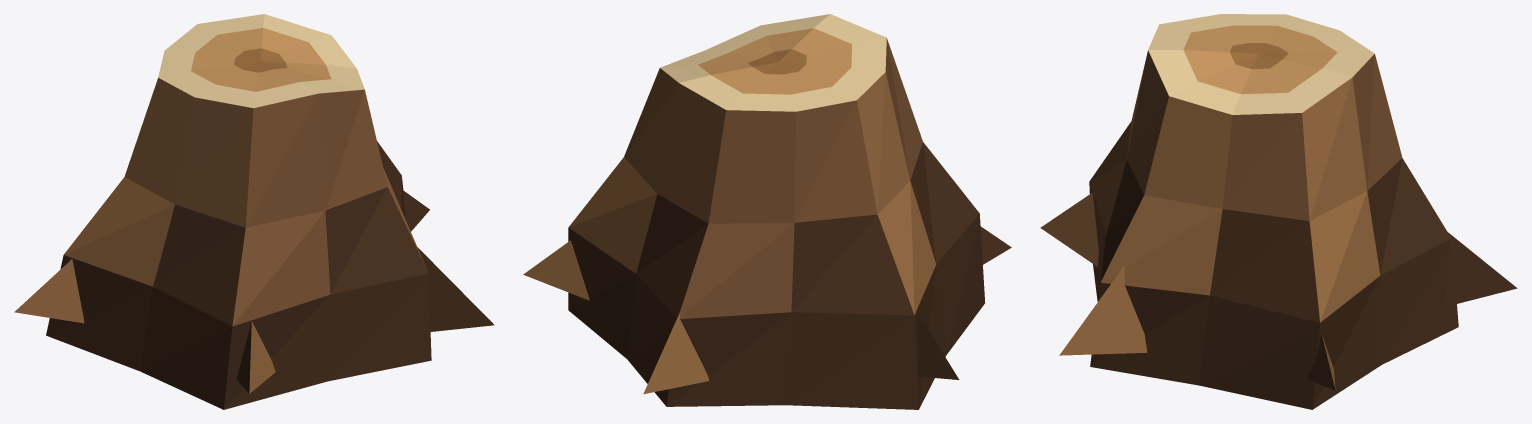
File: stump_fresh_pine.glb
3 renders of one model, left to right at view 1: azimuth 30°, elevation 25°; view 2: azimuth 150°, elevation 25°; view 3: azimuth 270°, elevation 25°, orthographic. The views are drawn at different scales.
Visible parts, largest first — view 1: stump_fresh_pine; view 2: stump_fresh_pine; view 3: stump_fresh_pine.
Boxes of the visible parts, left/top/right/bottom form: stump_fresh_pine: left=14, top=14, right=494, bottom=409; stump_fresh_pine: left=523, top=14, right=1011, bottom=409; stump_fresh_pine: left=1040, top=14, right=1517, bottom=409.
Bounding box in the file's own units: 1.26 × 0.7723 × 1.22.
